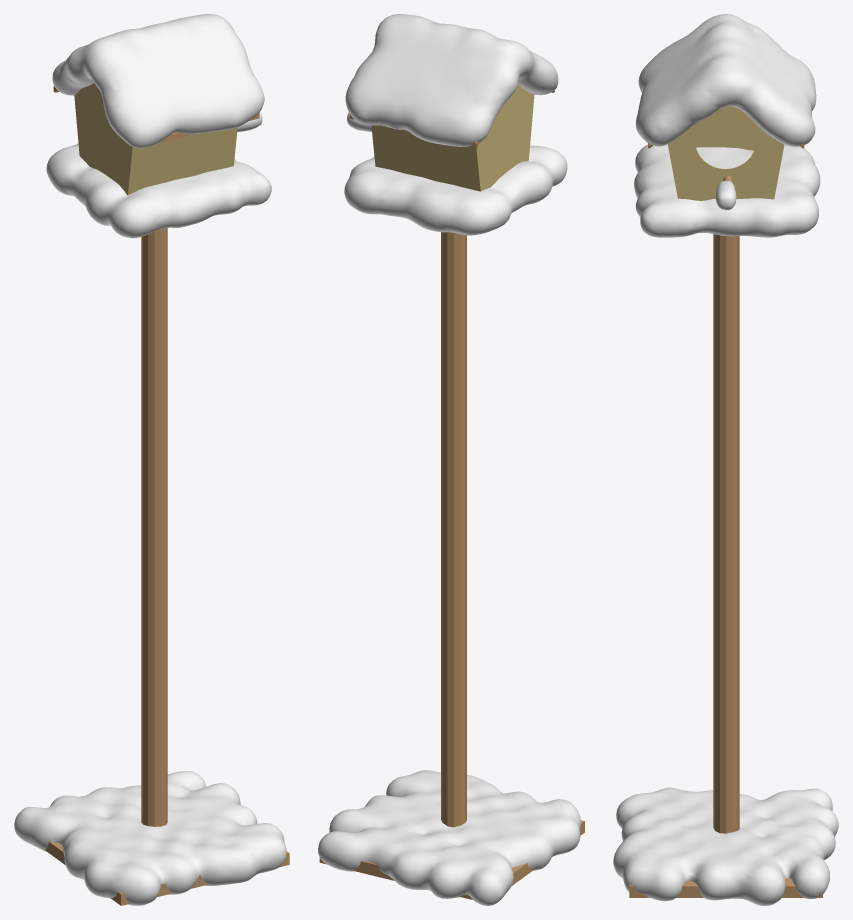
File: BirdHouseSNOW.fbx
3 views of the same model, side by side, from view 1: azimuth 30°, elevation 25°; view 2: azimuth 150°, elevation 25°; view 3: azimuth 270°, elevation 25° (orthographic).
Parts seen in each view (by area): view 1: SnowBall.001, Cube.003; view 2: SnowBall.001, Cube.003; view 3: SnowBall.001, Cube.003.
Part boxes in pixels (x1,y1,x2,y2): SnowBall.001: [14, 14, 286, 905]; Cube.003: [45, 83, 289, 905]; SnowBall.001: [318, 14, 580, 905]; Cube.003: [319, 85, 584, 899]; SnowBall.001: [613, 14, 838, 905]; Cube.003: [629, 106, 822, 897].
Bounding box in the file's own units: 125 × 491 × 122.
